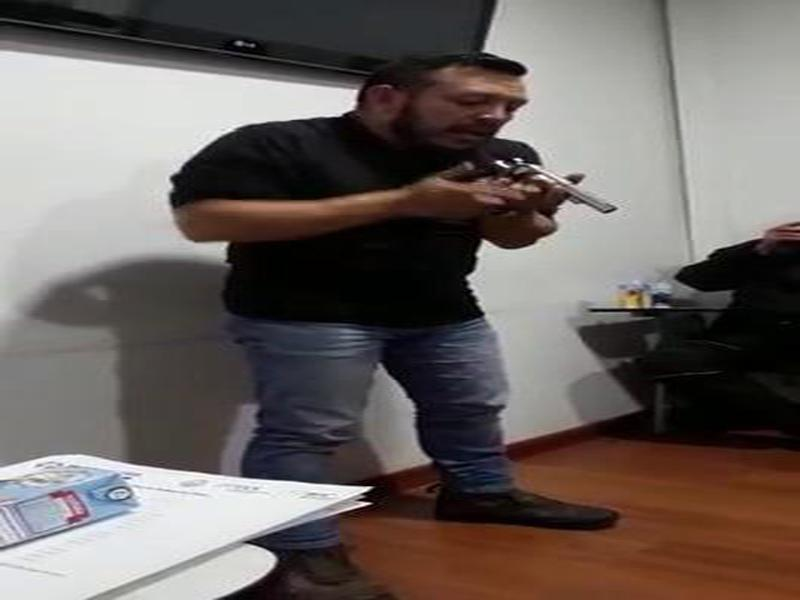Revolver: (468, 134, 638, 269)
